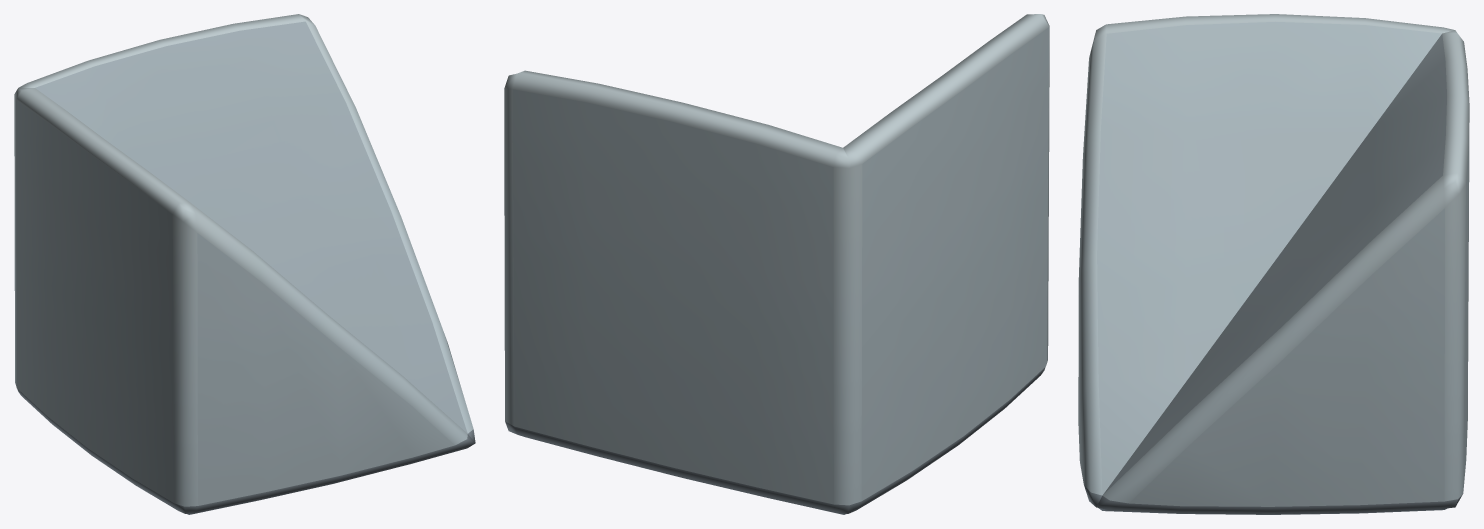
The model's file is Quartz_Slope_Inner.fbx.
3 renders of one model, left to right at view 1: azimuth 30°, elevation 25°; view 2: azimuth 150°, elevation 25°; view 3: azimuth 270°, elevation 25°, orthographic. The views are drawn at different scales.
Visible parts, largest first — view 1: Quartz_Slope_Inner_LOD0; view 2: Quartz_Slope_Inner_LOD0; view 3: Quartz_Slope_Inner_LOD0.
Boxes of the visible parts, x1,y1,x2,y2 form: Quartz_Slope_Inner_LOD0: (14,14,475,514); Quartz_Slope_Inner_LOD0: (504,14,1049,514); Quartz_Slope_Inner_LOD0: (1078,14,1469,514).
Size of what is drawn, in the model's own units: 1.11 by 1.09 by 1.09.
